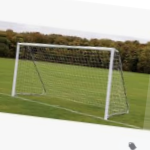goals: (11, 41, 134, 120)
